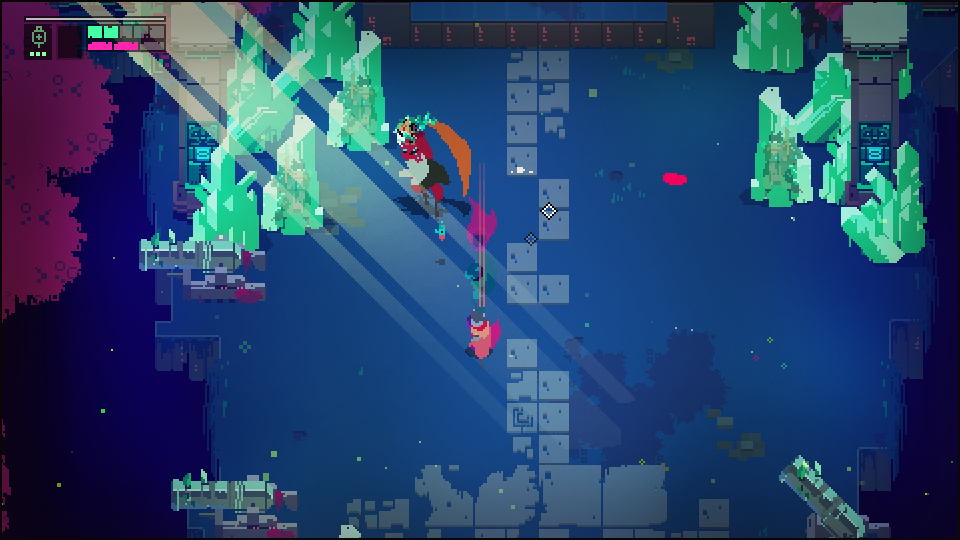hanged_man: (385, 107, 472, 226)
player: (465, 310, 495, 367)
